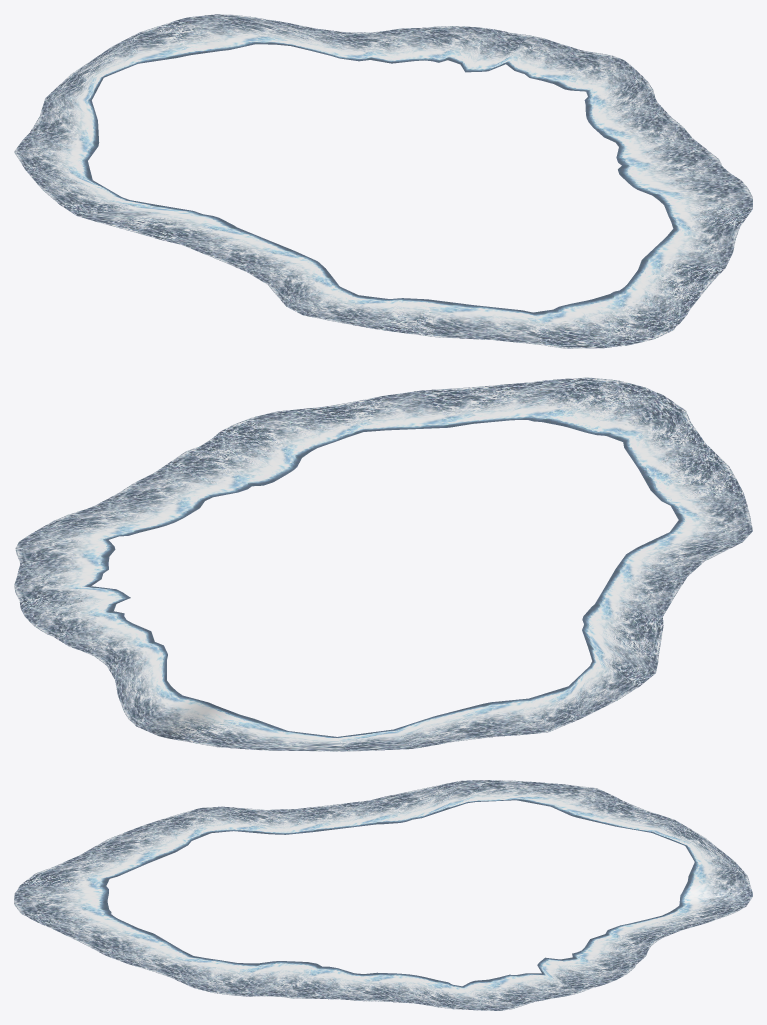
The model's file is snow_island_02_coast.fbx.
The picture shows the model from 3 angles, top to bottom: view 1: azimuth 30°, elevation 25°; view 2: azimuth 150°, elevation 25°; view 3: azimuth 270°, elevation 25°; orthographic projection. The views are drawn at different scales.
Visible parts, largest first — view 1: snow_island_02_coast; view 2: snow_island_02_coast; view 3: snow_island_02_coast.
Part boxes in pixels (<box>): snow_island_02_coast: <box>14,14,752,348</box>; snow_island_02_coast: <box>14,377,752,751</box>; snow_island_02_coast: <box>14,780,752,1010</box>.
Bounding box in the file's own units: 0.3688 × 0 × 0.4989.
1 material, 1 textured.
